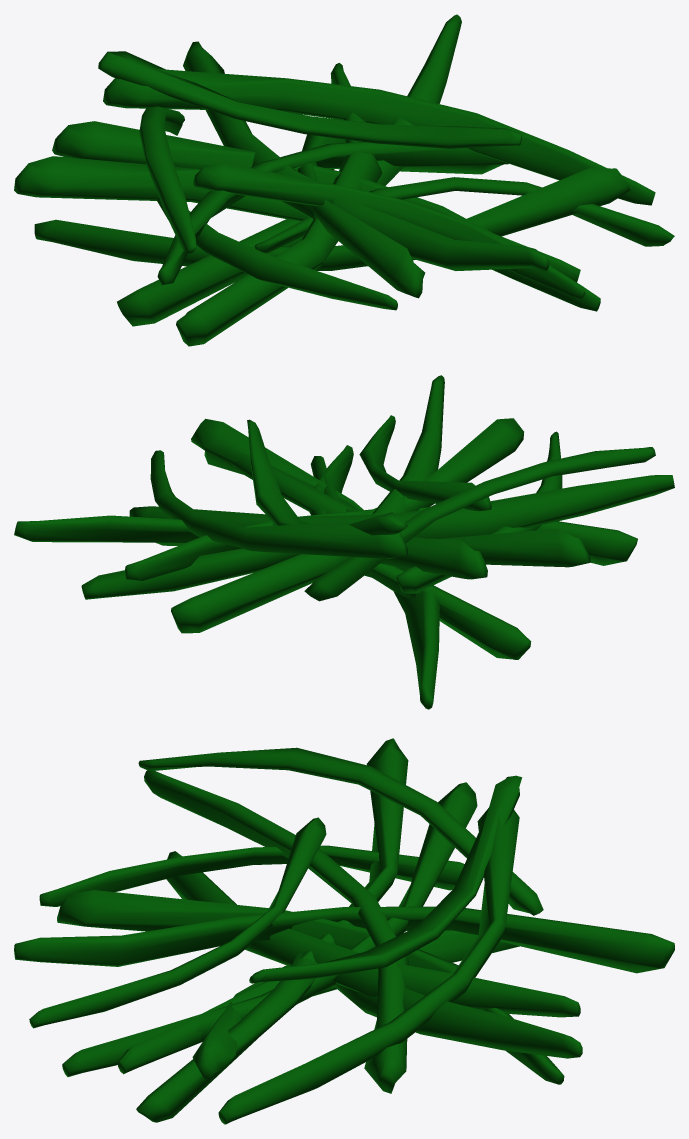
The model's file is HoldPepper.fbx.
3 renders of one model, top to bottom at view 1: azimuth 30°, elevation 25°; view 2: azimuth 150°, elevation 25°; view 3: azimuth 270°, elevation 25°, orthographic. The views are drawn at different scales.
Visible parts, largest first — view 1: pepper_select; view 2: pepper_select; view 3: pepper_select.
Boxes of the visible parts, <box> form: pepper_select: <box>14,14,674,346</box>; pepper_select: <box>14,375,674,709</box>; pepper_select: <box>14,738,674,1124</box>.
Size of the model in its own units: 7.89 by 2.75 by 7.9.
